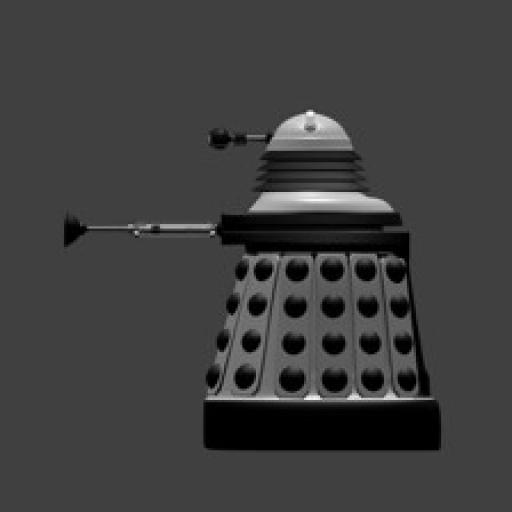dalek: (52, 102, 455, 461)
